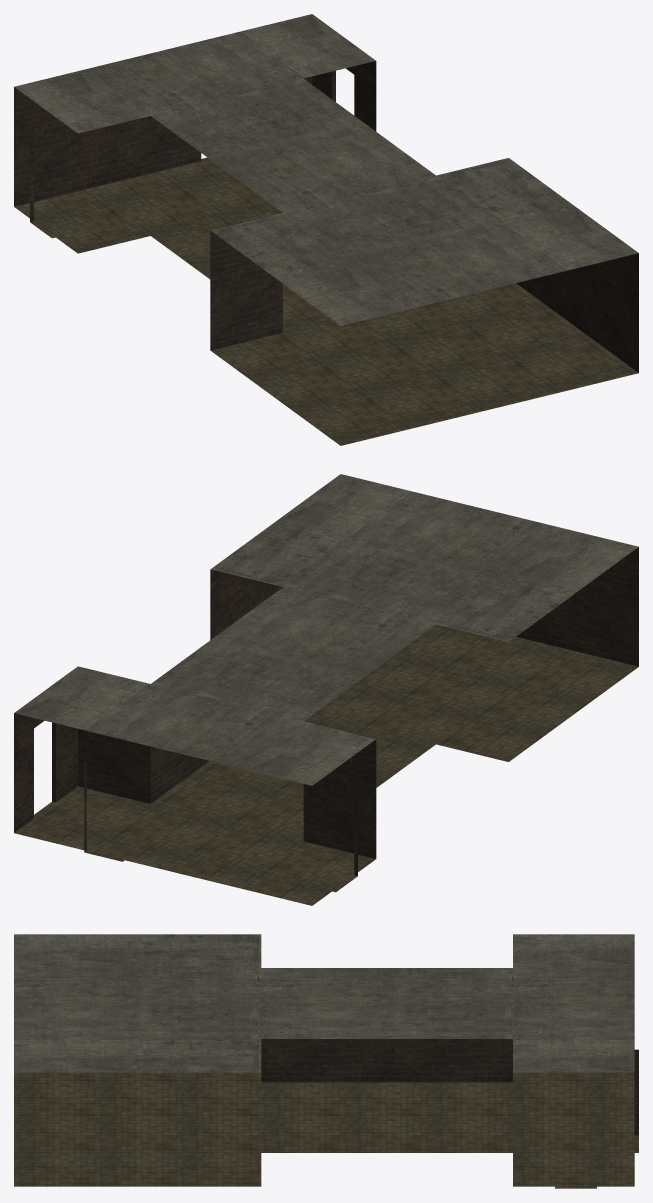
The model's file is boiler_room.glb.
3 views of the same model, one above another, from view 1: azimuth 30°, elevation 25°; view 2: azimuth 150°, elevation 25°; view 3: azimuth 270°, elevation 25° (orthographic). The views are drawn at different scales.
Visible parts, largest first — view 1: BoilerRoom-col; view 2: BoilerRoom-col; view 3: BoilerRoom-col.
Boxes of the visible parts, left/top/right/bottom form: BoilerRoom-col: left=14, top=14, right=638, bottom=445; BoilerRoom-col: left=14, top=474, right=638, bottom=905; BoilerRoom-col: left=14, top=934, right=638, bottom=1188.
Bounding box in the file's own units: 8 × 3 × 14.9.
3 materials, 3 textured.
